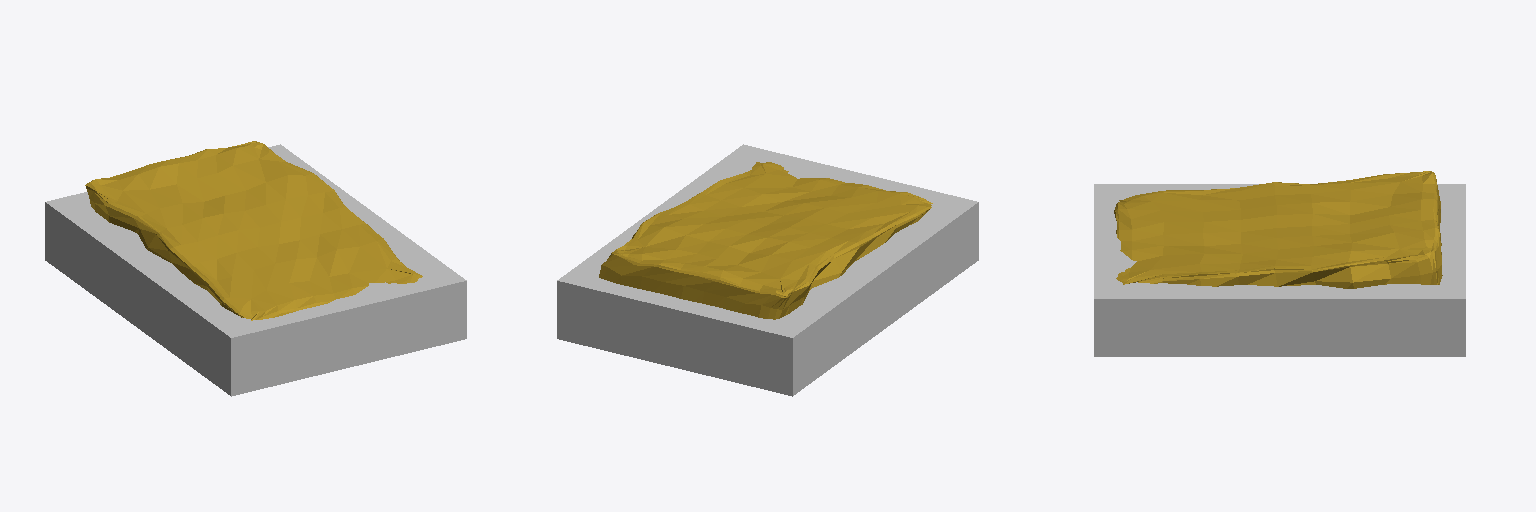
3 views of the same model, side by side, from view 1: azimuth 30°, elevation 25°; view 2: azimuth 150°, elevation 25°; view 3: azimuth 270°, elevation 25° (orthographic).
Parts seen in each view (by area): view 1: Vasilhame_Cubo.002, Manteiga_Malha.002; view 2: Vasilhame_Cubo.002, Manteiga_Malha.002; view 3: Vasilhame_Cubo.002, Manteiga_Malha.002.
Boxes of the visible parts, box(x1,y1,x2,y2) form: Vasilhame_Cubo.002: box(45, 144, 466, 396); Manteiga_Malha.002: box(85, 141, 422, 320); Vasilhame_Cubo.002: box(557, 144, 978, 396); Manteiga_Malha.002: box(599, 162, 932, 319); Vasilhame_Cubo.002: box(1094, 184, 1465, 356); Manteiga_Malha.002: box(1114, 171, 1442, 288).
Size of the model in its own units: 0.076 by 0.0269 by 0.104.
2 materials, 1 textured.